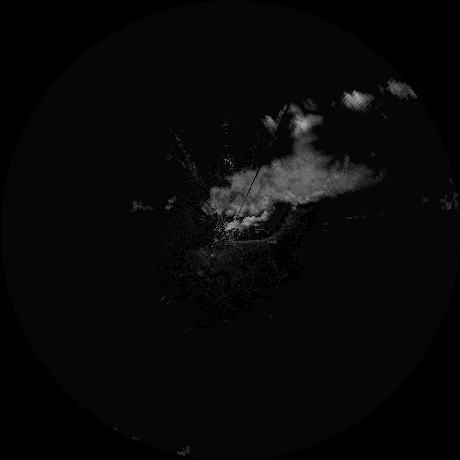frontgust: (227, 207, 298, 244)
